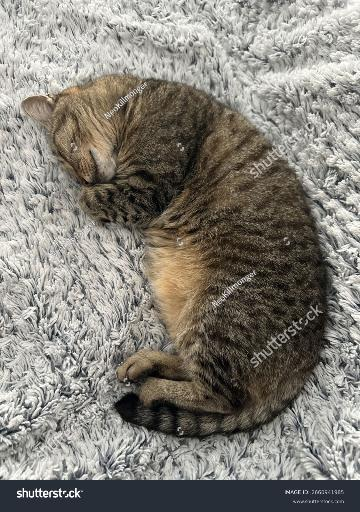cat_sleeping: (22, 75, 326, 436)
